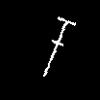double_crochet: (43, 17, 75, 75)
